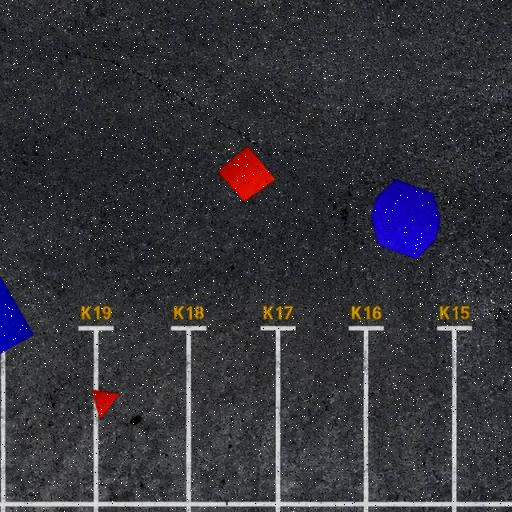BLUE_SQUARE: (0, 266, 34, 379)
RED_SQUARE: (216, 145, 276, 202)
